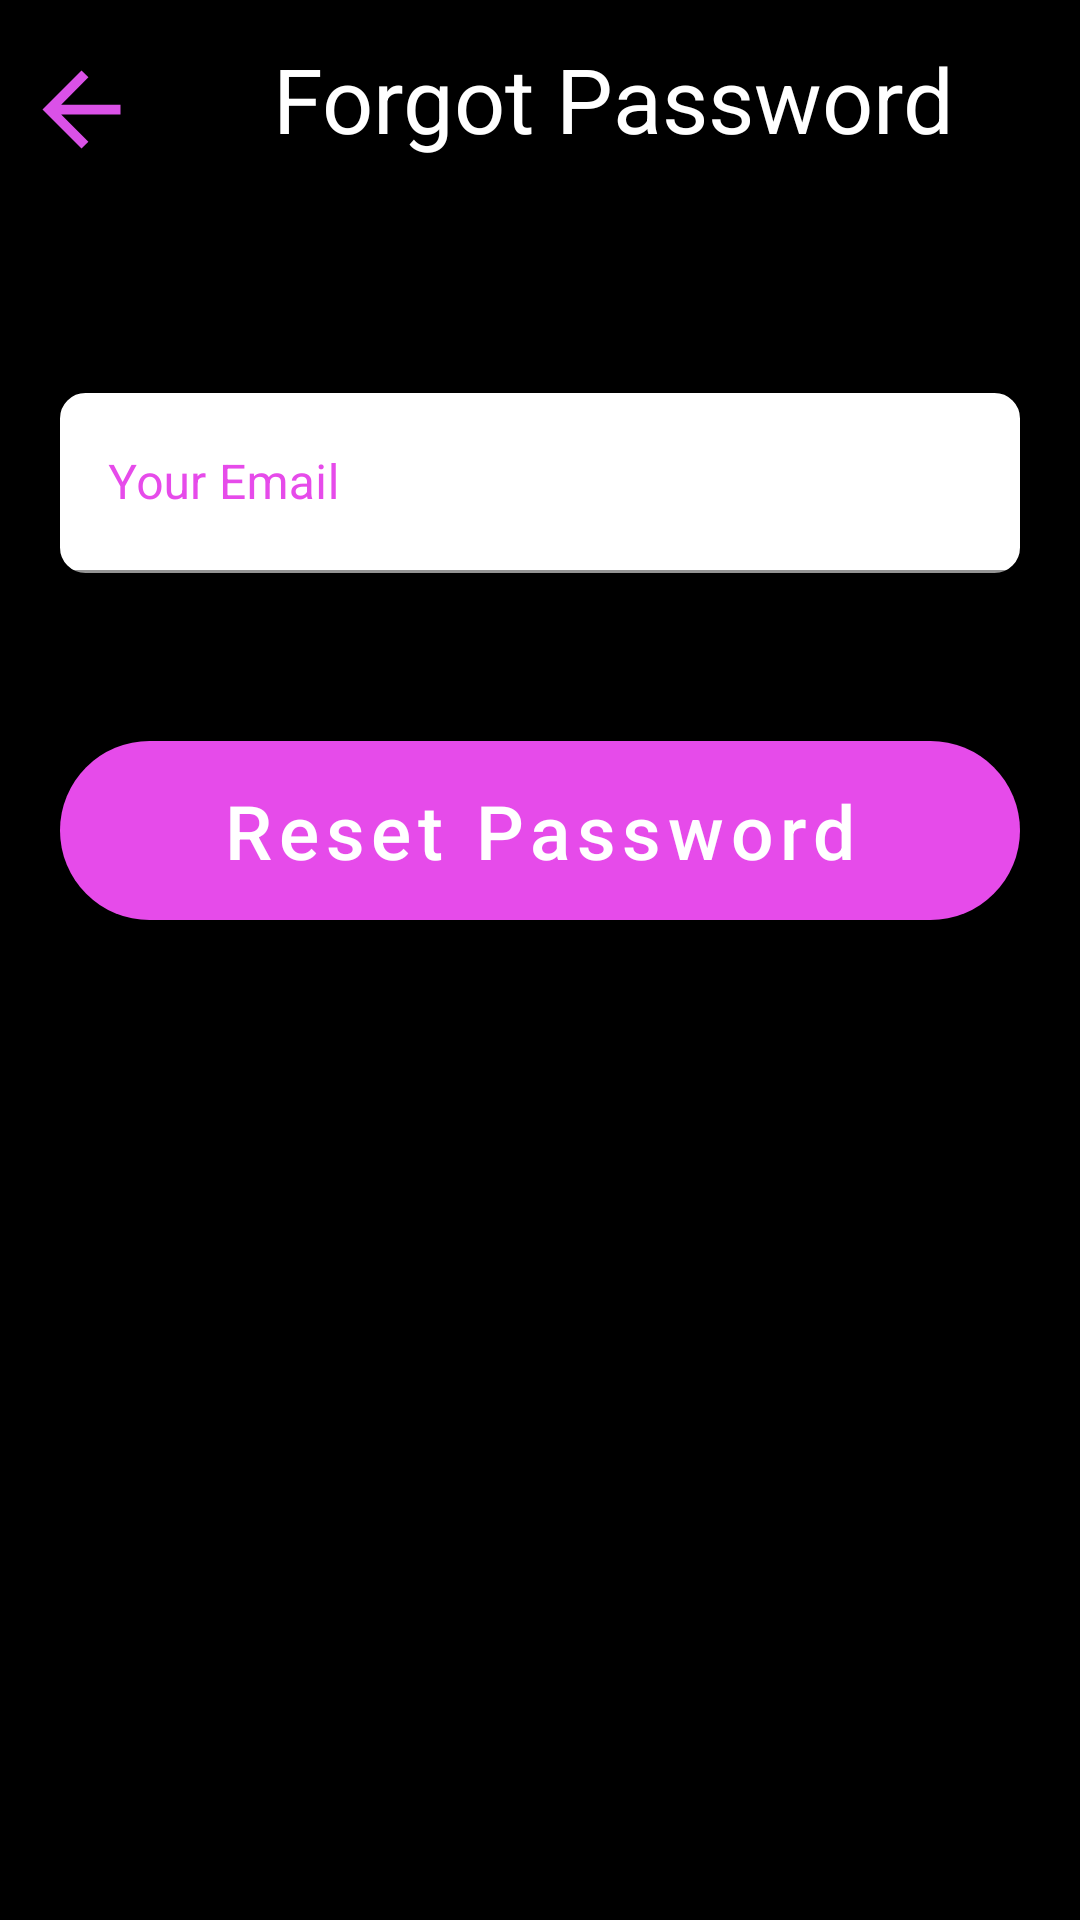

Where to tap for icons on this 1080x1920 app screen, as (x=x, y=y):
back: (x=81, y=109)
